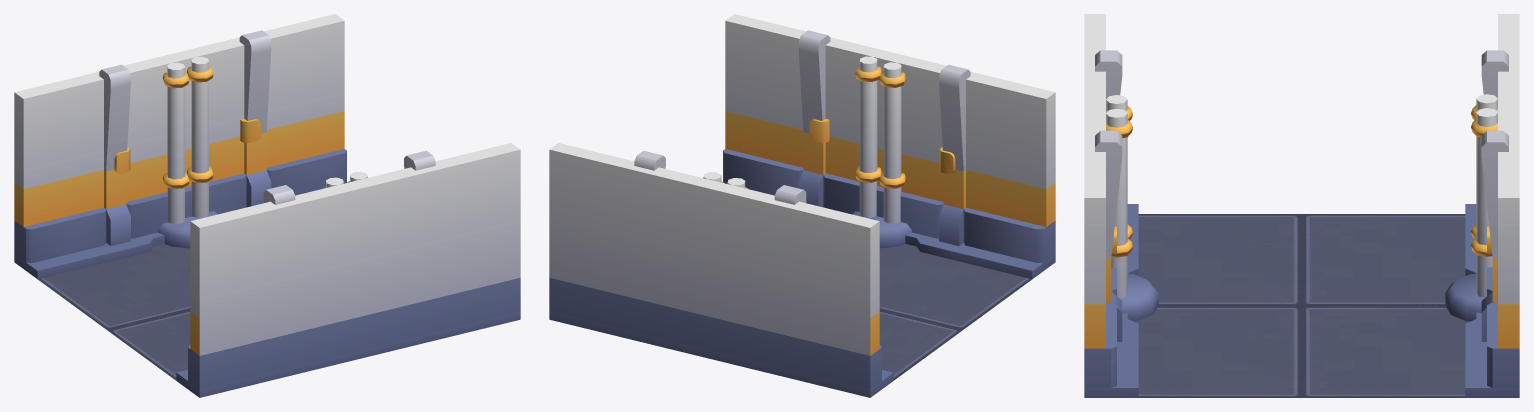
The model's file is corridor-wide.glb.
The picture shows the model from 3 angles, left to right: view 1: azimuth 30°, elevation 25°; view 2: azimuth 150°, elevation 25°; view 3: azimuth 270°, elevation 25°; orthographic projection. The views are drawn at different scales.
Visible parts, largest first — view 1: corridor-wide; view 2: corridor-wide; view 3: corridor-wide.
Boxes of the visible parts, <box> form: corridor-wide: <box>14,14,520,397</box>; corridor-wide: <box>549,14,1055,397</box>; corridor-wide: <box>1084,14,1519,397</box>.
Size of the model in its own units: 8 by 4.25 by 8.
1 material, 1 textured.
